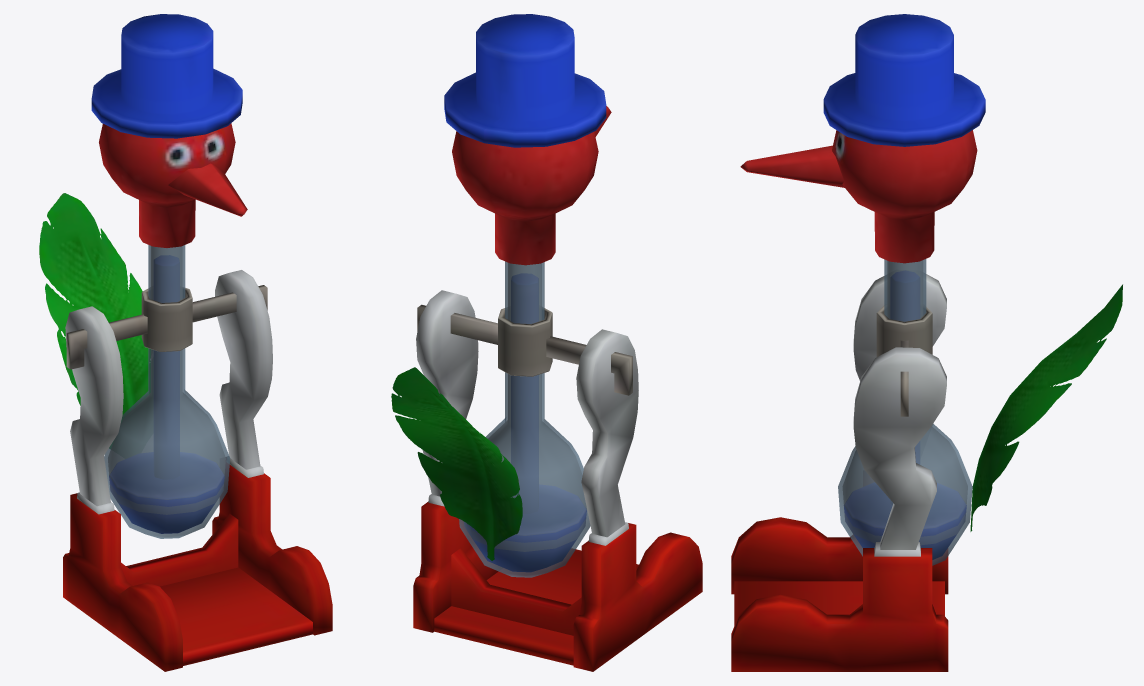
3 renders of one model, left to right at view 1: azimuth 30°, elevation 25°; view 2: azimuth 150°, elevation 25°; view 3: azimuth 270°, elevation 25°, orthographic. The views are drawn at different scales.
Size of the model in its own units: 3.13 by 8.48 by 5.16.
3 materials, 2 textured.
